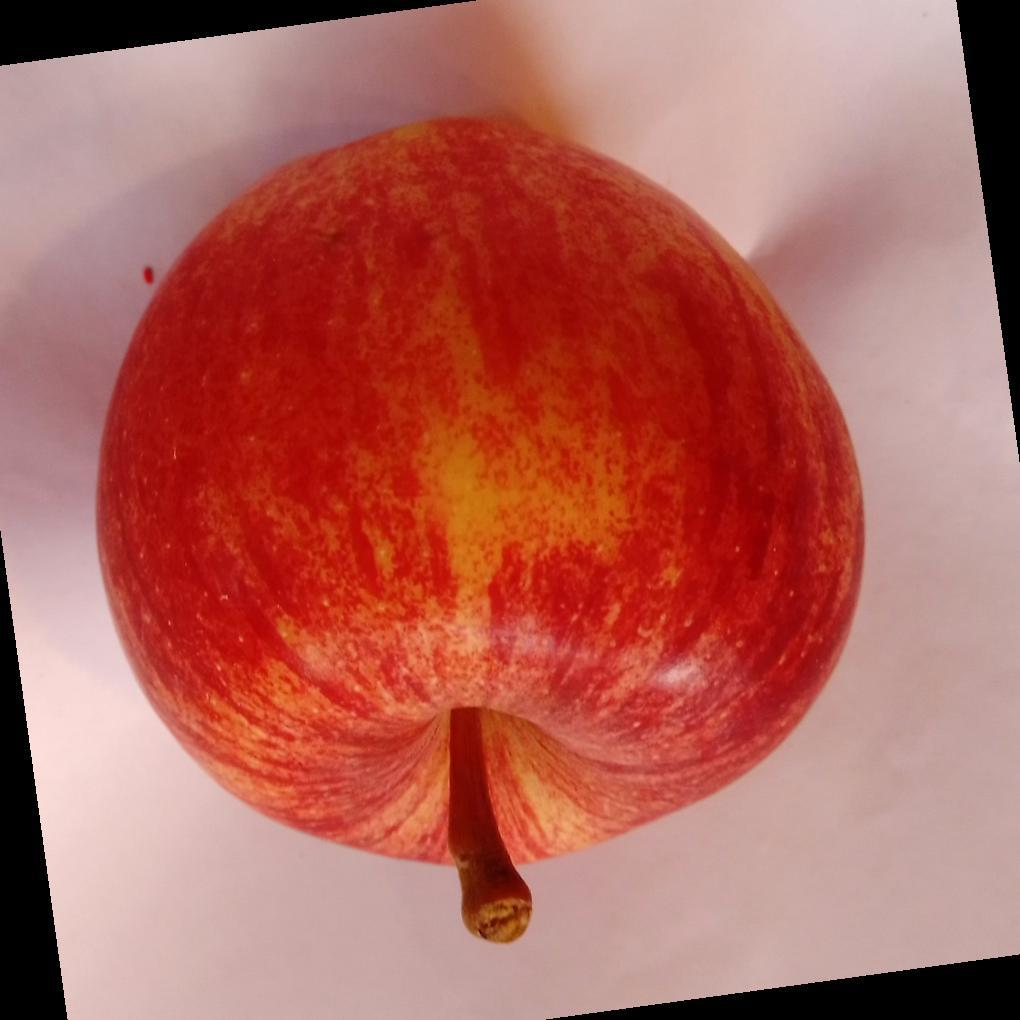FreshGuava: (92, 118, 867, 948)
